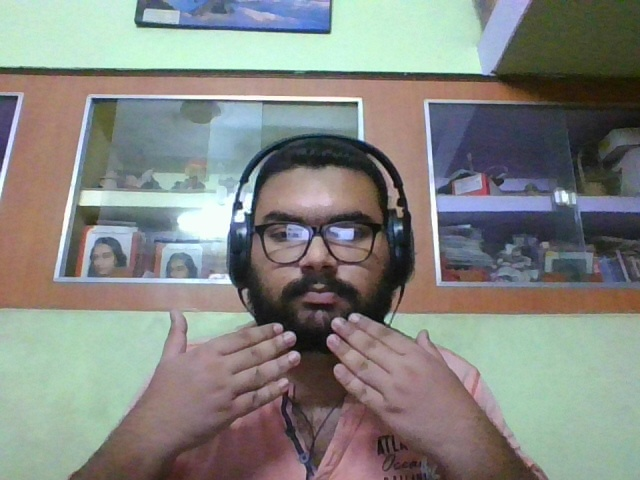thankyou: (144, 308, 461, 458)
